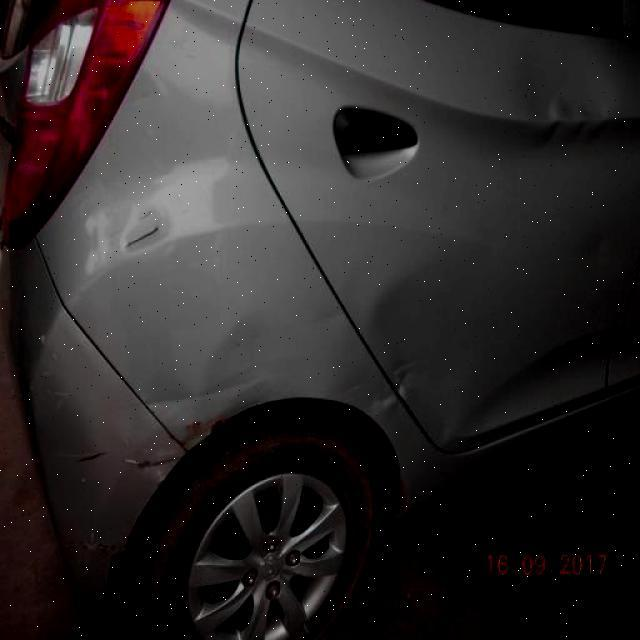car damage: (368, 287, 450, 439), (520, 68, 609, 145), (169, 418, 226, 450), (126, 221, 166, 249), (122, 457, 183, 474), (74, 446, 107, 464)
